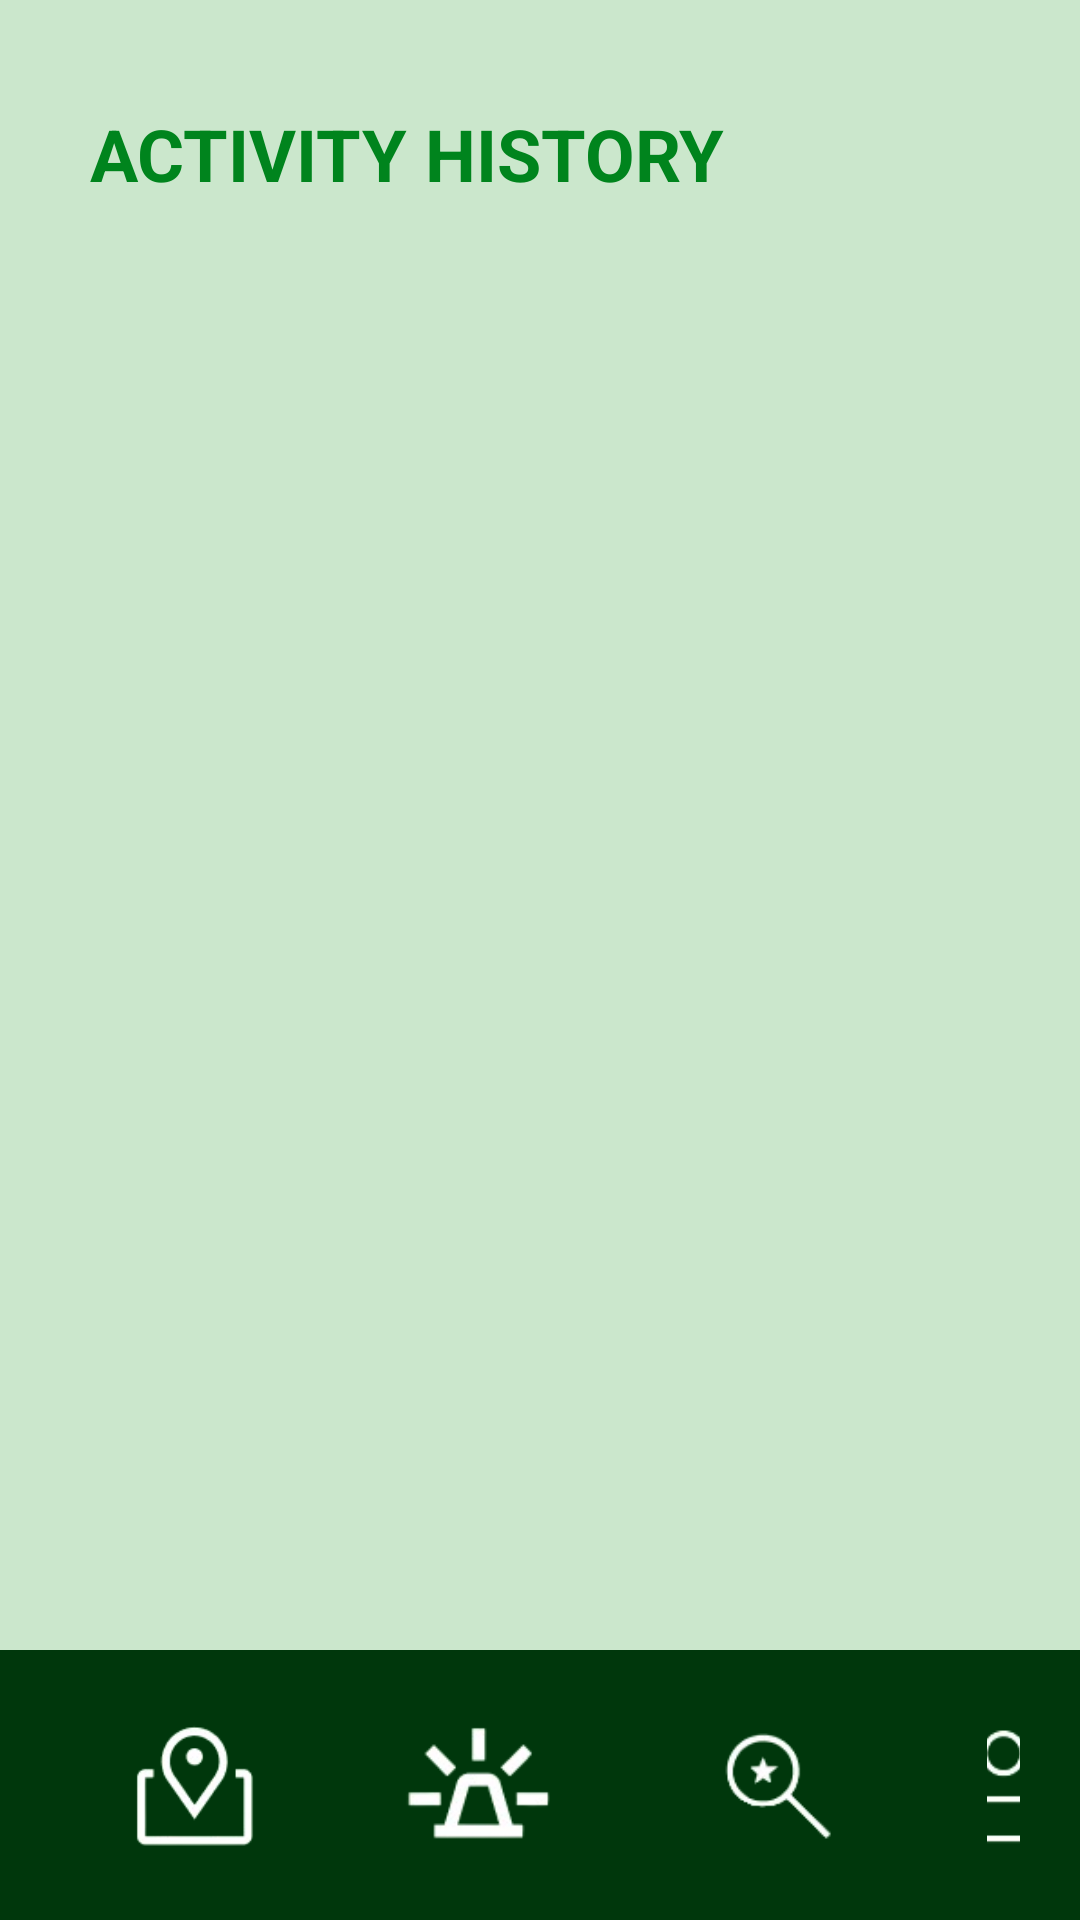

Point at icon controls on the screen. Image size 1080 × 1920, points as [x,y].
Campus Map: [195,1786]
Emergency: [479,1783]
